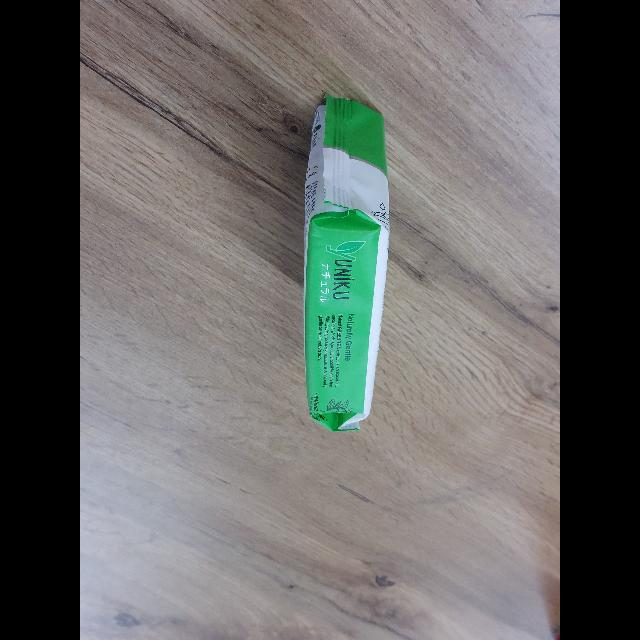khan_giay: (303, 92, 390, 431)
